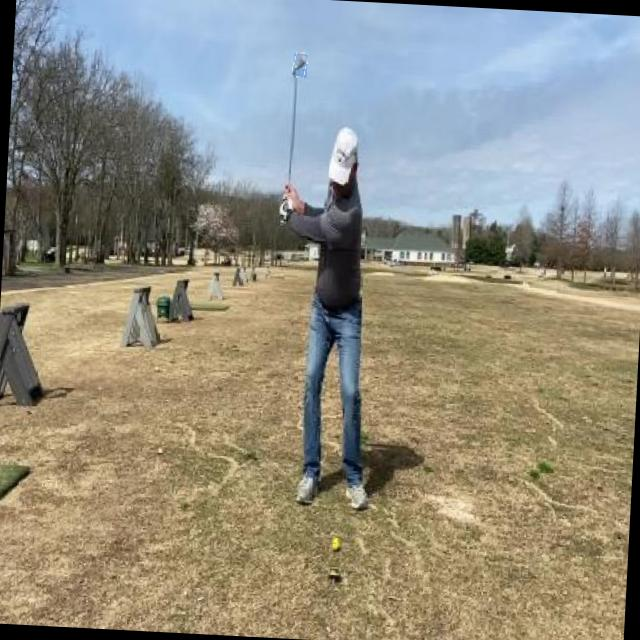club head: (293, 53, 308, 78)
